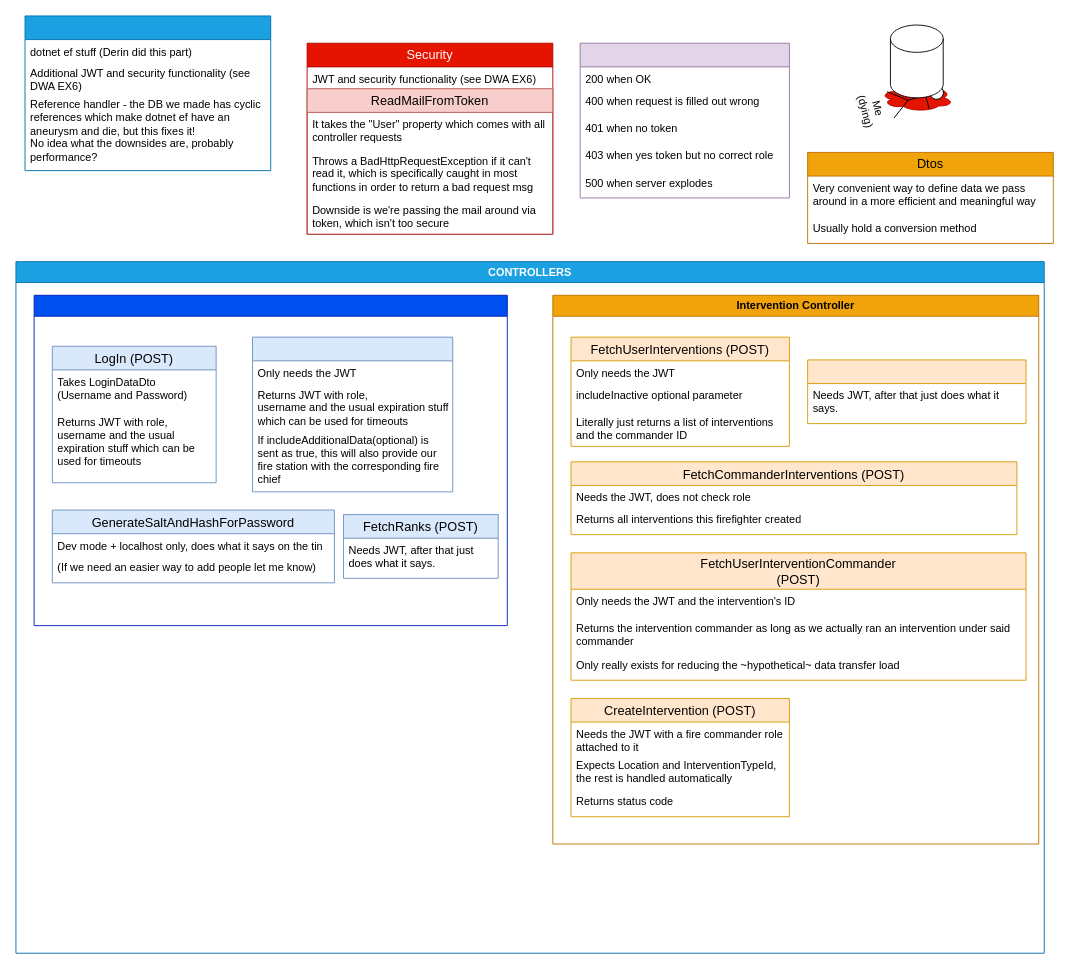
Some shapes in this 1069 by 969 pixel diagram are drawn without their labels. The shapes that lost their labels are listed below. From the top down, each one's box as (x1, y1, x2, y2) in pixels, then its label:
(890, 24, 943, 98): DB
(24, 15, 271, 171): Program.cs
(579, 42, 789, 198): Returned Status Codes
(807, 359, 1026, 424): FetchInterventionTypes (POST)
(252, 336, 453, 492): FetchPersonalData (POST)
(33, 294, 507, 626): User Controller
